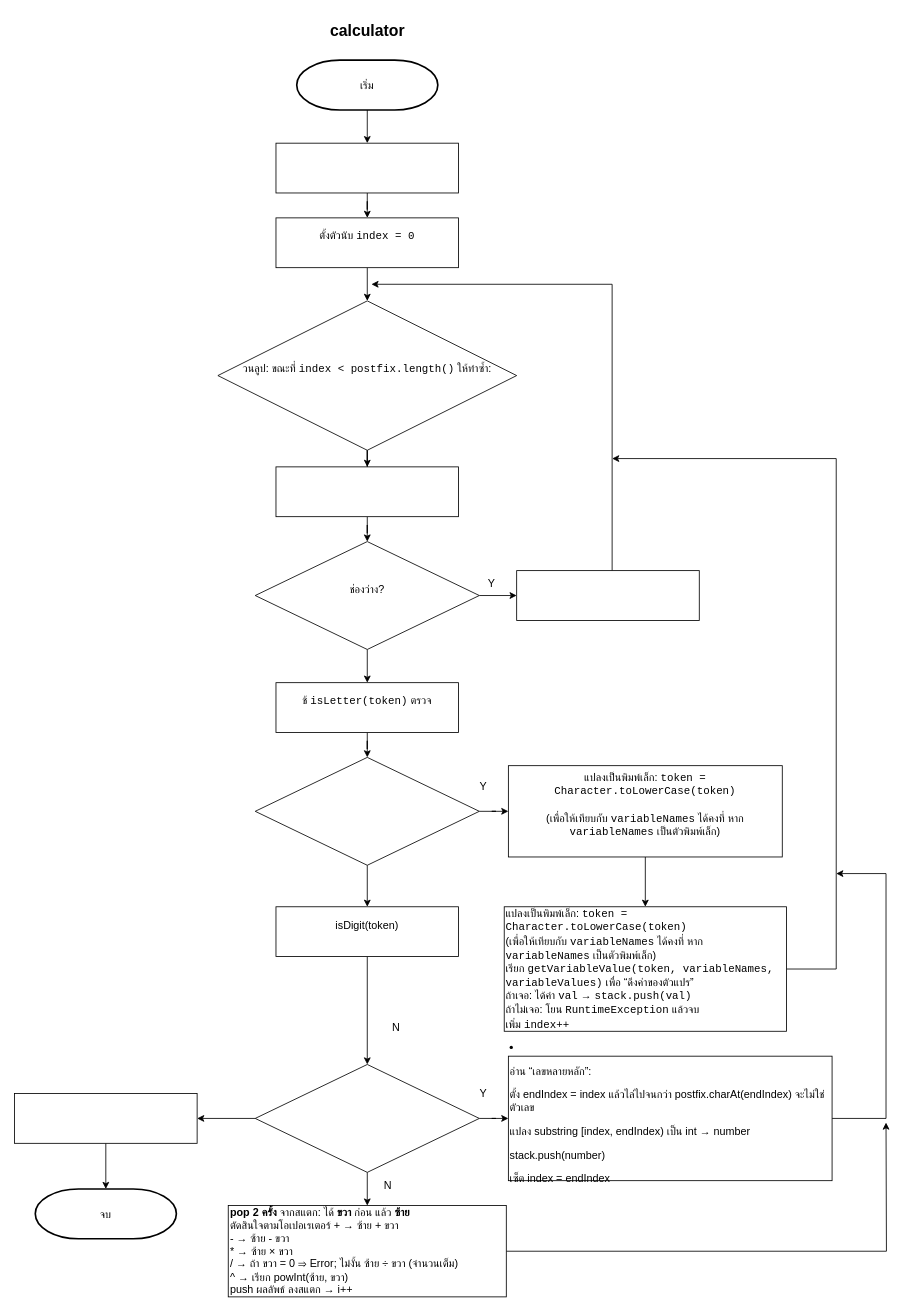
The diagram is 908 pixels wide and 1311 high, and some of its shapes have lost their labels. The shapes that lost their labels are listed below. From the top down, each one's centre as x and y in pixels, then its label:
At point (367, 167): "“สร้างสแตกว่าง” stack (ชนิด DStack ) เพื่อเก็บตัวเลขชั่วคราวตอนคำนวณ".
At point (367, 491): "อ่านอักขระปัจจุบัน: token = postfix.charAt(index)".
At point (607, 595): "ข้าม (เพิ่ม index++ )".
At point (366, 811): "เป็นตัวอักษร (ตัวแปร)?".
At point (105, 1118): "pop 1 ครั้ง".
At point (366, 1118): "number ?".
